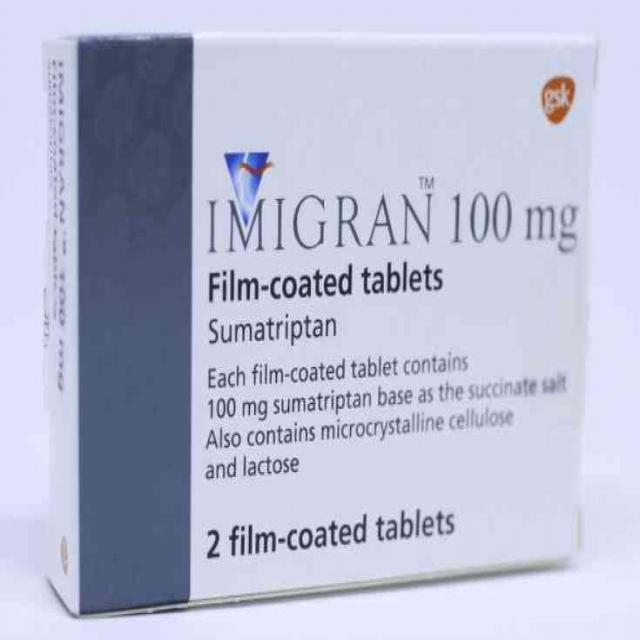drug-name: (198, 194, 444, 250)
